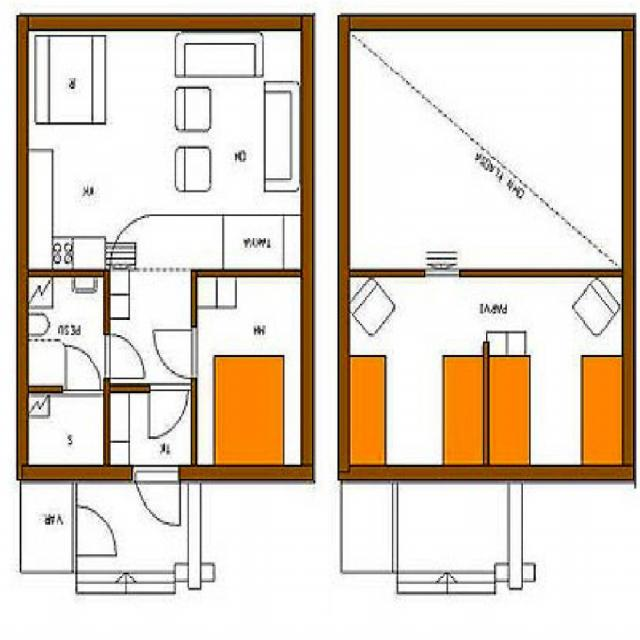door: (136, 465, 180, 536), (72, 505, 118, 555), (154, 330, 197, 377), (151, 384, 188, 436), (66, 344, 100, 393), (105, 335, 143, 377)
